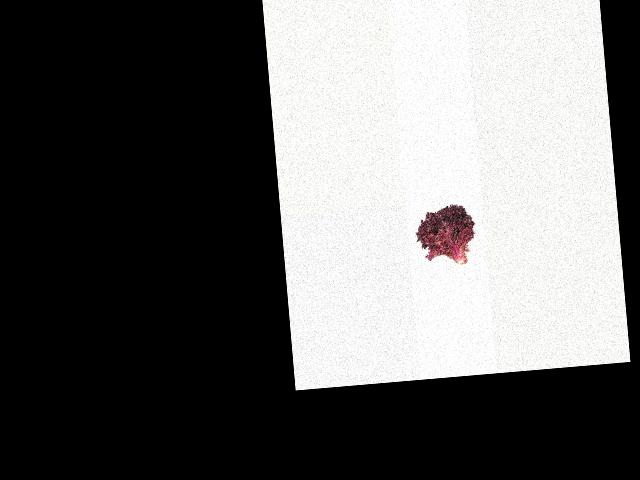lettuce: (412, 199, 476, 274)
